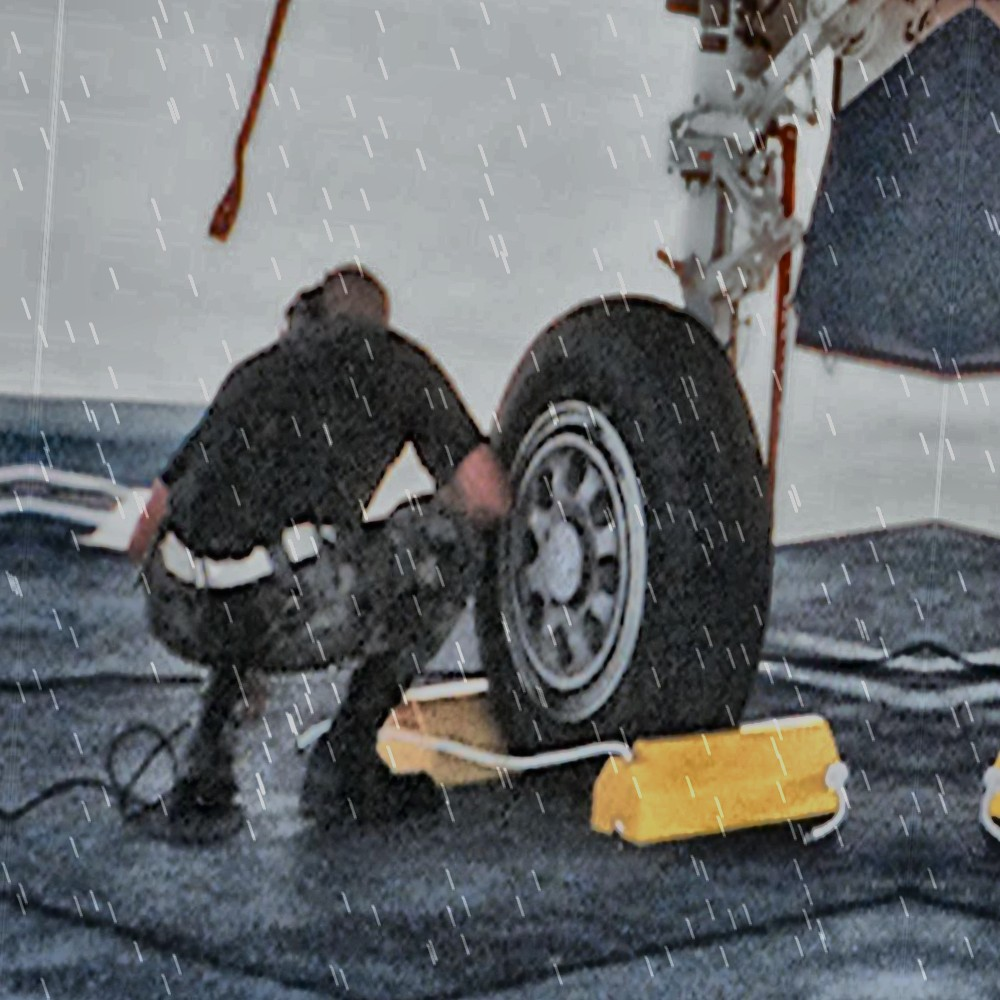chock: (582, 692, 862, 876), (359, 664, 608, 808)
wheel: (445, 282, 795, 786)
